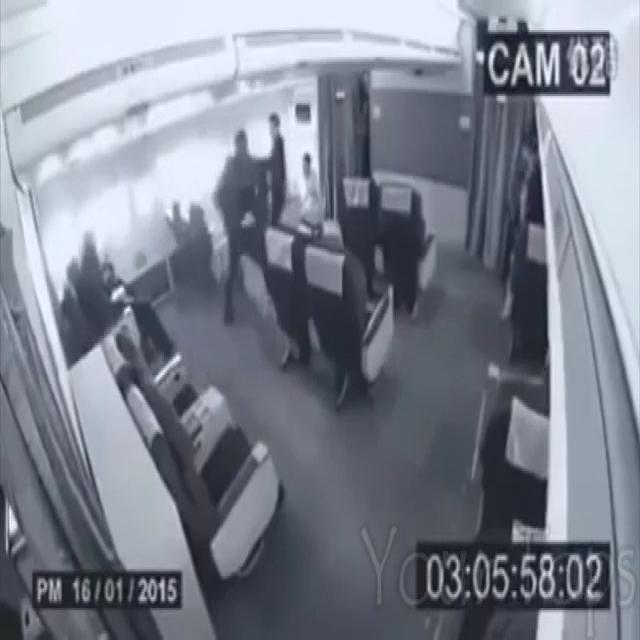fight: (211, 111, 290, 331)
